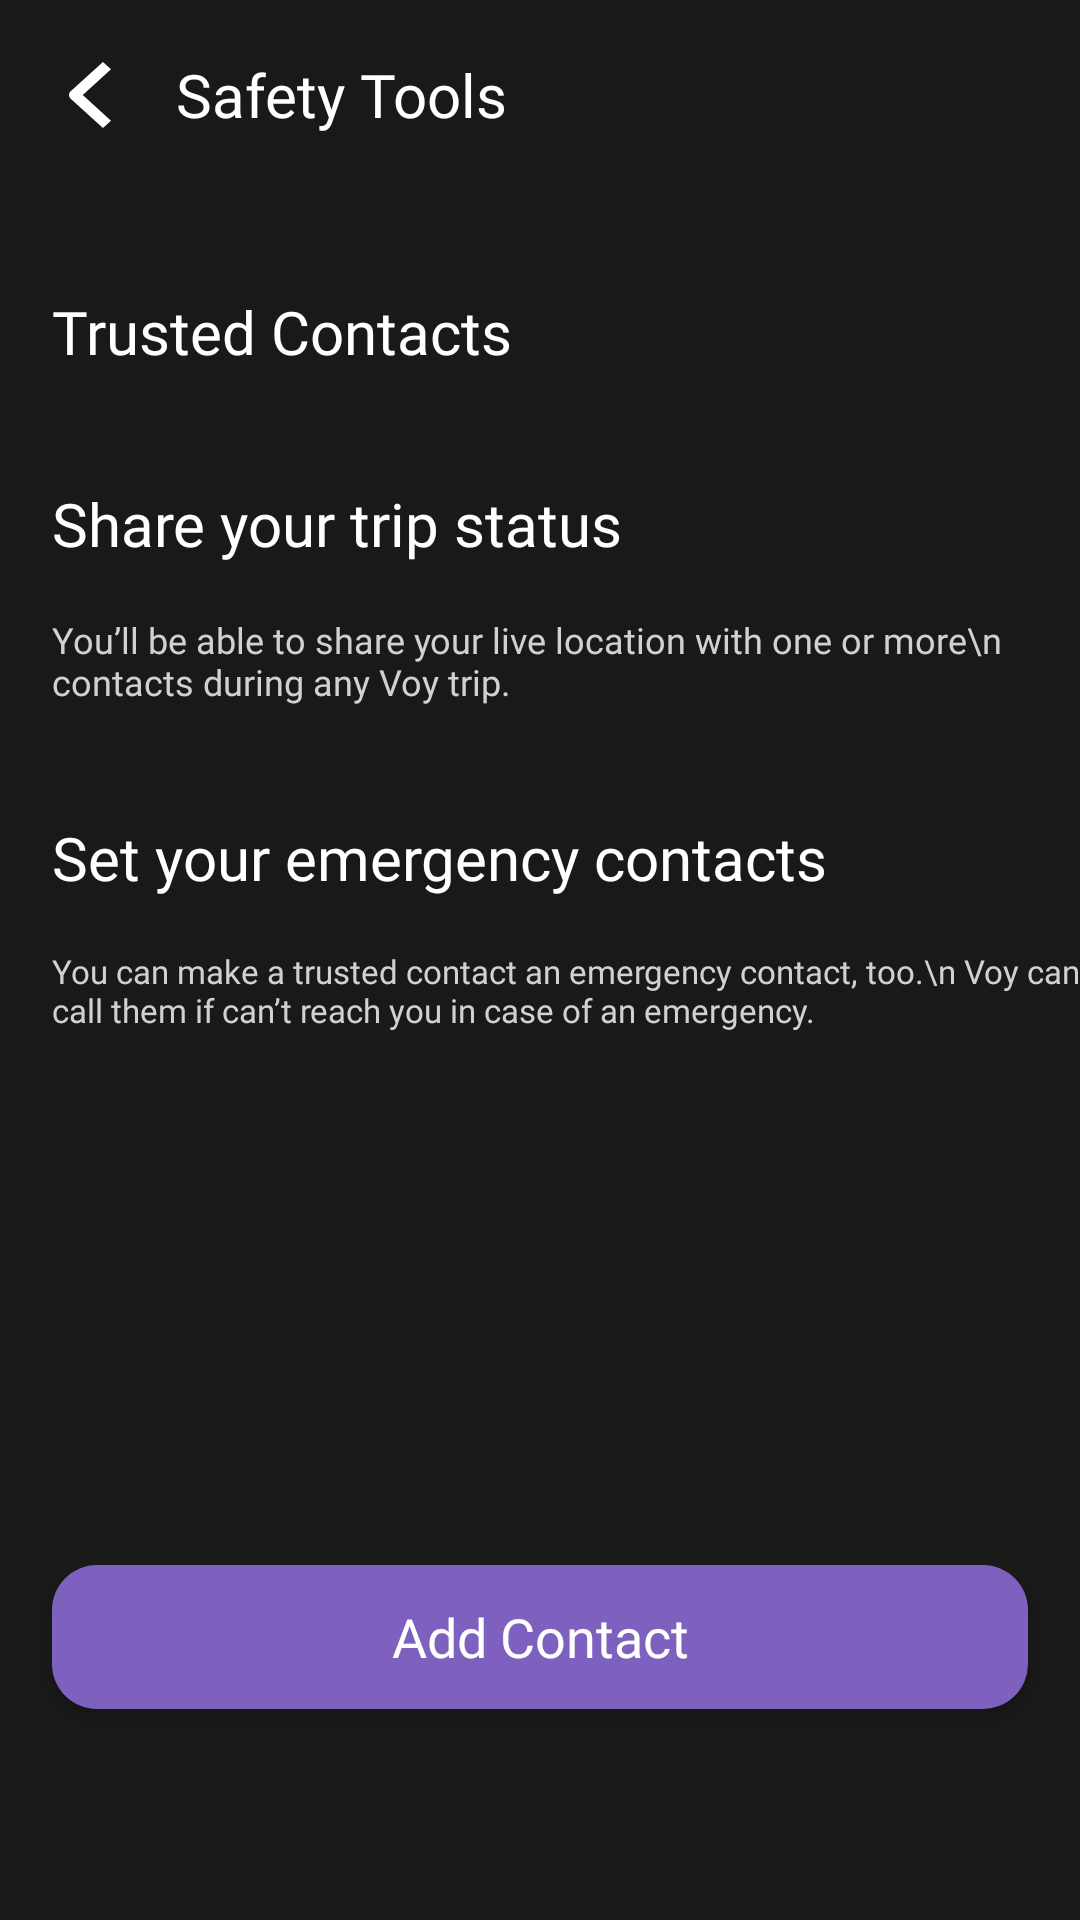

Where to tap for icons on this 1080*1920 app screen, as (x=x, y=y):
Back button: (x=90, y=95)
